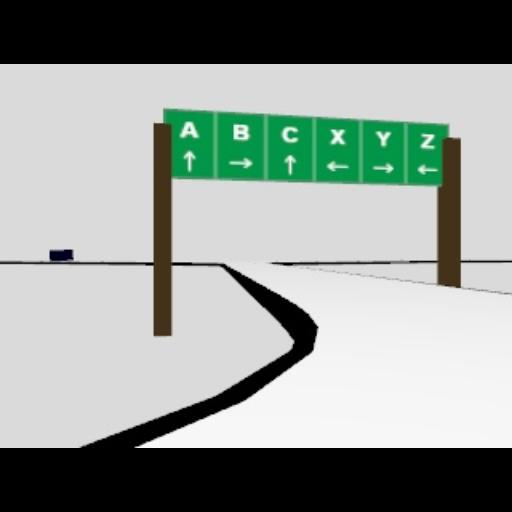A: (180, 120, 198, 138)
B: (232, 123, 250, 141)
C: (280, 125, 298, 143)
Left: (325, 160, 351, 172), (414, 164, 438, 174)
Right: (227, 156, 253, 168), (371, 163, 393, 173)
Straight: (182, 149, 196, 171), (284, 154, 296, 174)
X: (330, 128, 346, 144)
Y: (374, 130, 390, 146)
Z: (419, 133, 435, 149)
